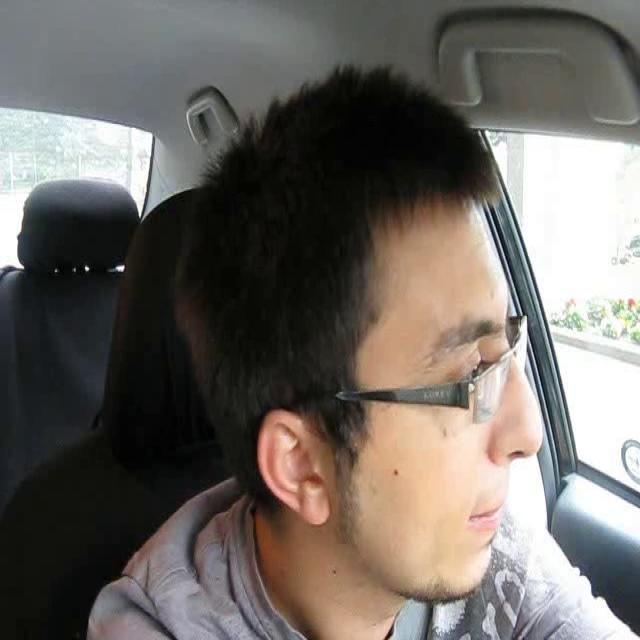close: (465, 485, 509, 540)
